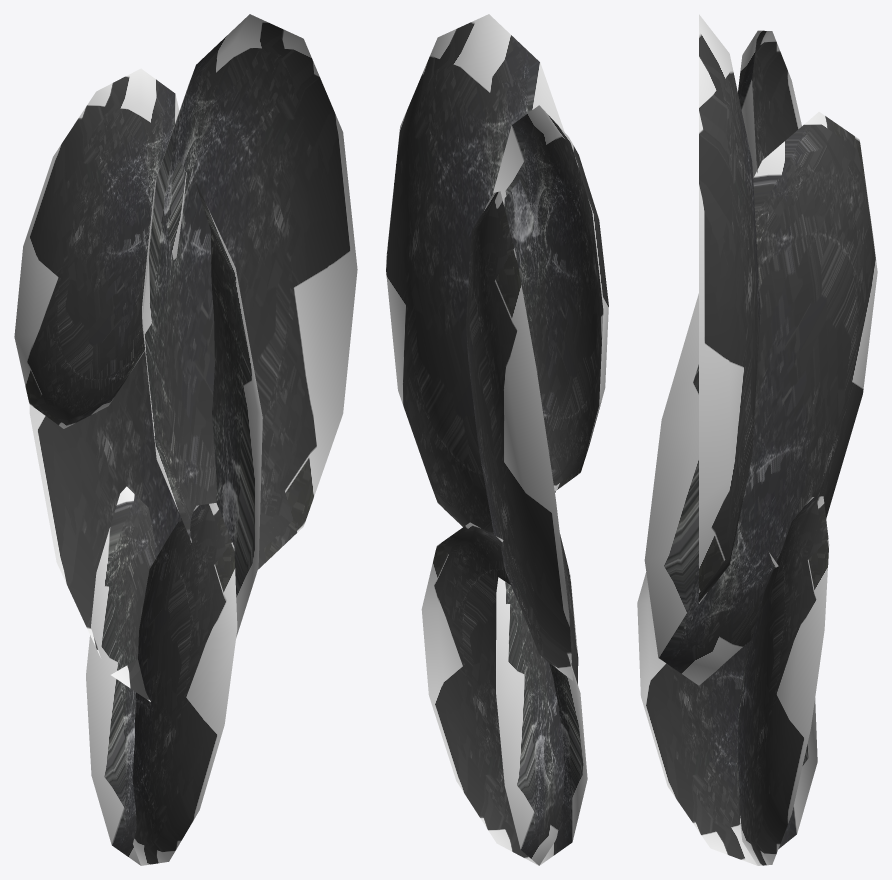
The model's file is cobweb7.FBX.
3 renders of one model, left to right at view 1: azimuth 30°, elevation 25°; view 2: azimuth 150°, elevation 25°; view 3: azimuth 270°, elevation 25°, orthographic. The views are drawn at different scales.
Parts seen in each view (by area): view 1: cobweb007; view 2: cobweb007; view 3: cobweb007.
Boxes of the visible parts, left/top/right/bottom form: cobweb007: left=14, top=14, right=357, bottom=865; cobweb007: left=386, top=14, right=608, bottom=865; cobweb007: left=637, top=14, right=877, bottom=865.
Size of the model in its own units: 77.37 by 223 by 54.3.
